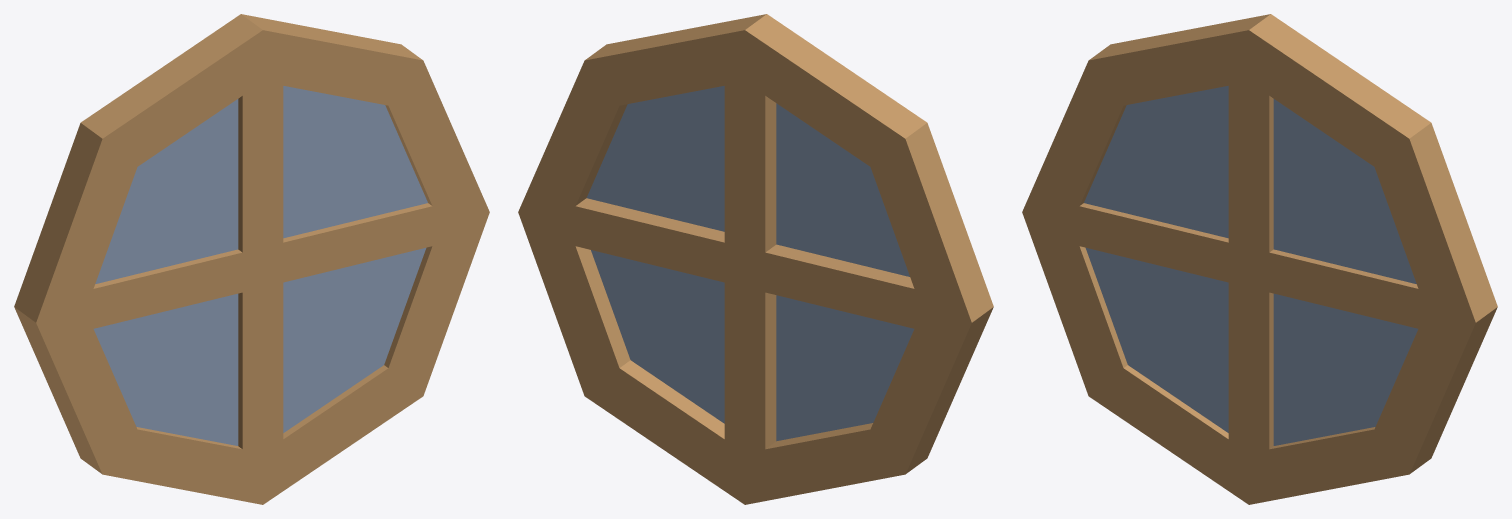
File: window.fbx
3 renders of one model, left to right at view 1: azimuth 30°, elevation 25°; view 2: azimuth 150°, elevation 25°; view 3: azimuth 330°, elevation 25°, orthographic.
Parts seen in each view (by area): view 1: Cube.005; view 2: Cube.005; view 3: Cube.005.
Boxes of the visible parts, x1,y1,x2,y2 form: Cube.005: (14, 14, 489, 504); Cube.005: (518, 14, 993, 504); Cube.005: (1022, 14, 1497, 504).
Bounding box in the file's own units: 200 × 200 × 16.82.
